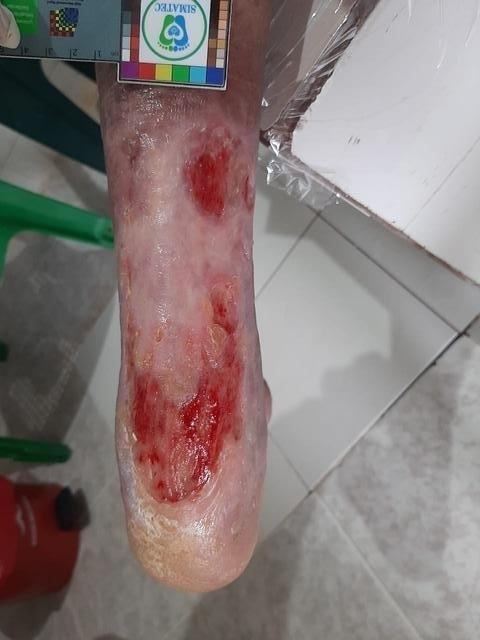wound: (125, 279, 244, 506), (182, 123, 255, 226), (118, 134, 155, 215), (121, 249, 133, 303)
